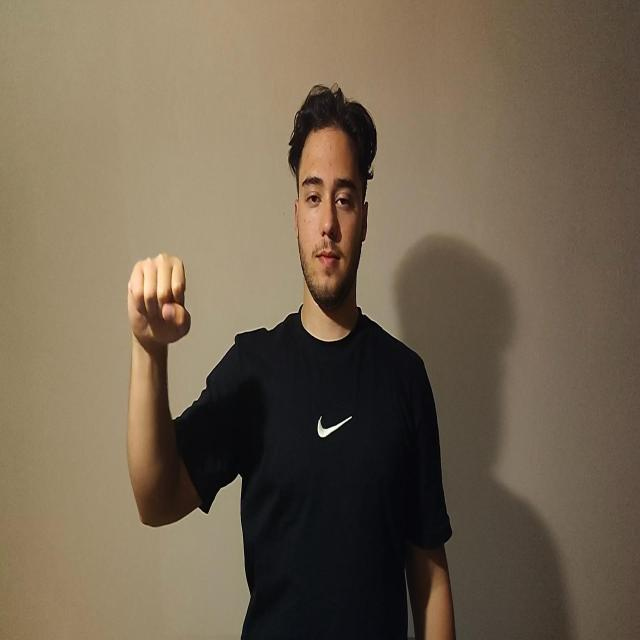yes: (127, 252, 191, 354)
